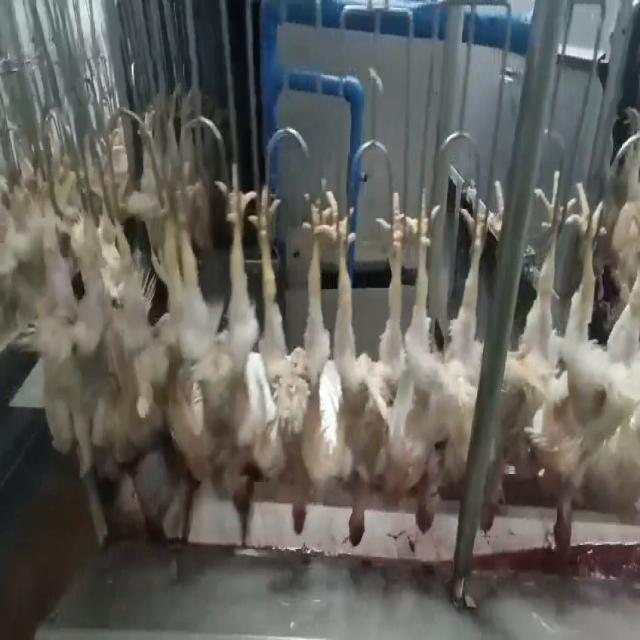chicken: (547, 180, 639, 624), (307, 182, 414, 552), (384, 187, 496, 535), (477, 180, 583, 545), (163, 156, 255, 519), (64, 158, 156, 497), (255, 180, 334, 542)
